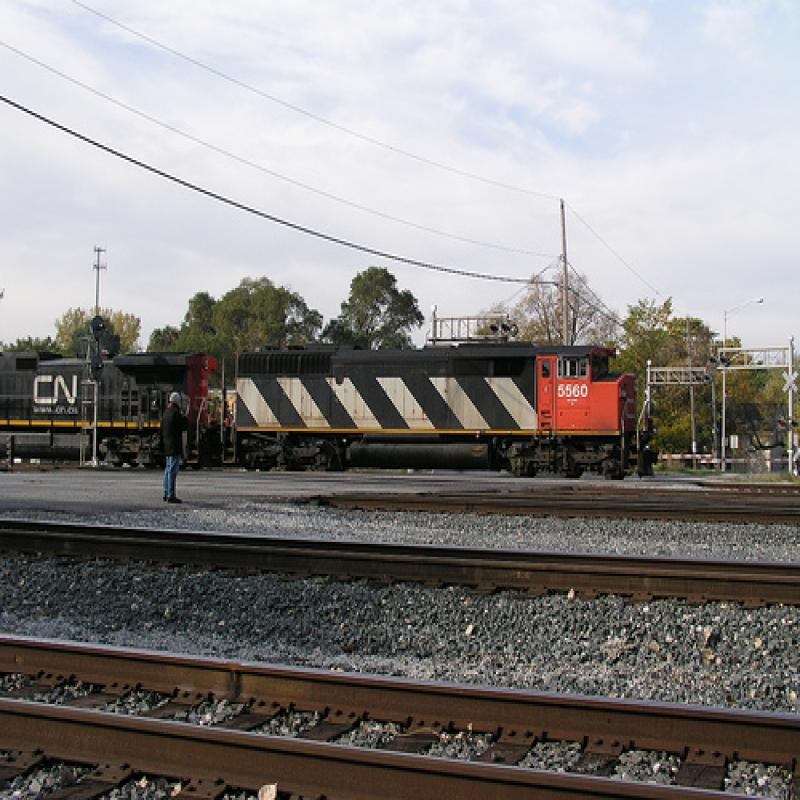train: (1, 334, 659, 481)
